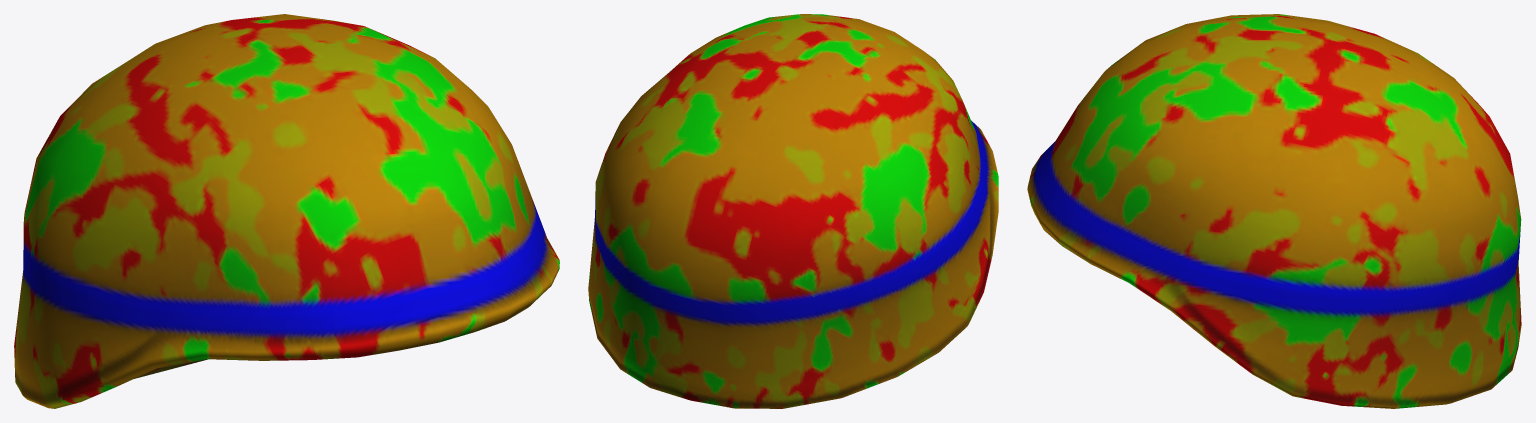
The model's file is Hat_ArmyHat.obj.
The picture shows the model from 3 angles, left to right: view 1: azimuth 30°, elevation 25°; view 2: azimuth 150°, elevation 25°; view 3: azimuth 270°, elevation 25°; orthographic projection. The views are drawn at different scales.
Parts seen in each view (by area): view 1: Hat_ArmyHat_0; view 2: Hat_ArmyHat_0; view 3: Hat_ArmyHat_0.
Part boxes in pixels (left/top/right/bottom): Hat_ArmyHat_0: left=14, top=14, right=559, bottom=408; Hat_ArmyHat_0: left=588, top=14, right=998, bottom=408; Hat_ArmyHat_0: left=1027, top=14, right=1521, bottom=408.
Size of the model in its own units: 0.2578 by 0.1933 by 0.2767.
1 material, 1 textured.
